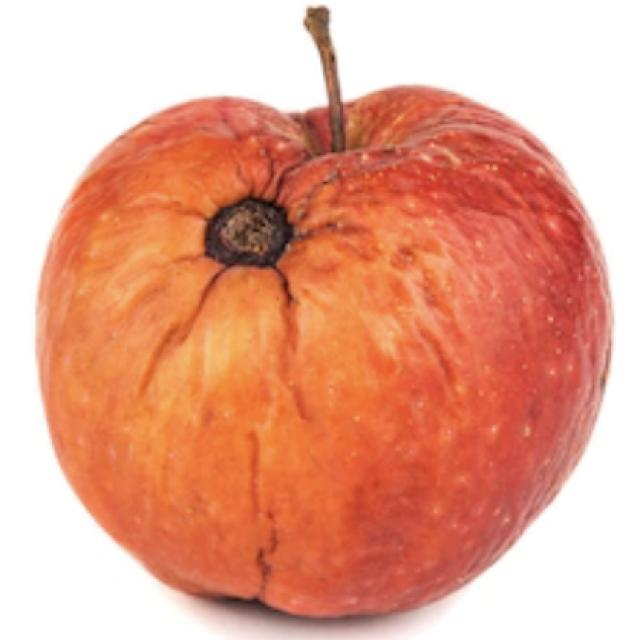Rotten: (47, 85, 600, 632)
